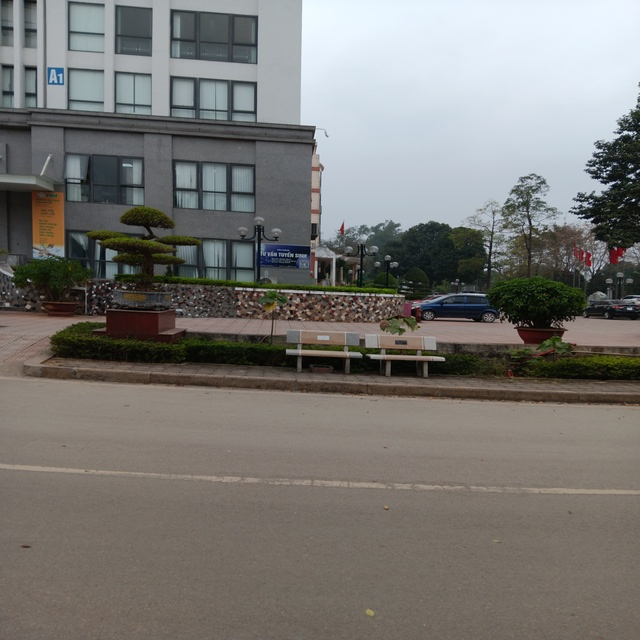gheda: (363, 330, 456, 380), (283, 328, 365, 378)
